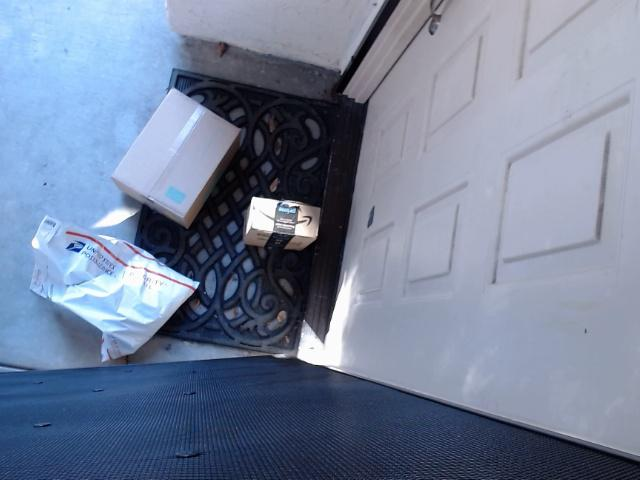box: (105, 77, 243, 231), (240, 193, 323, 260)
plastic_bag: (11, 218, 202, 357)
